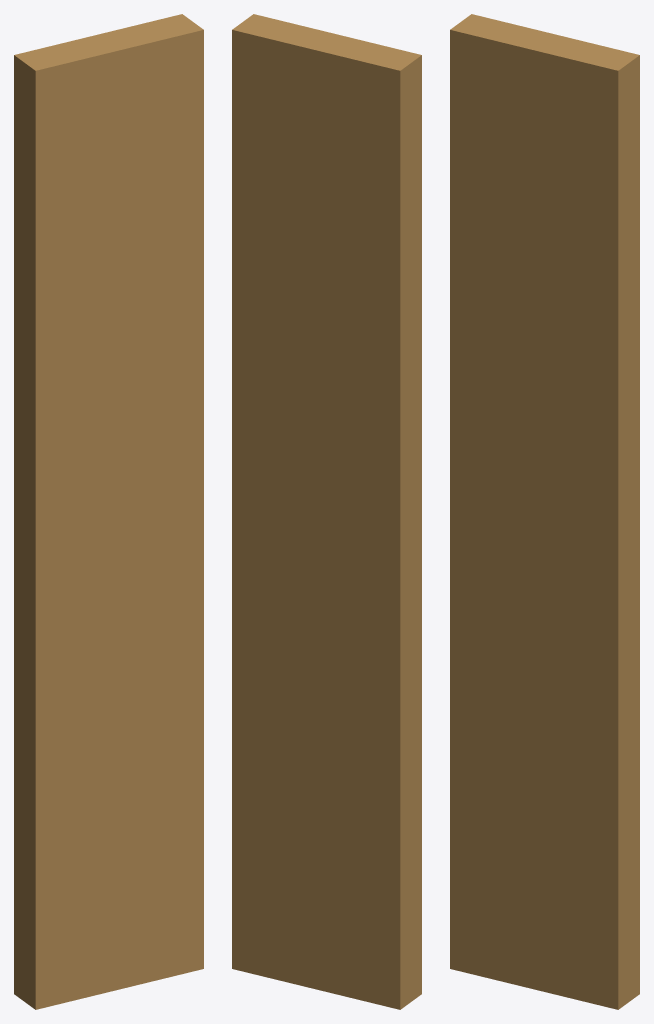
3 renders of one model, left to right at view 1: azimuth 30°, elevation 25°; view 2: azimuth 150°, elevation 25°; view 3: azimuth 330°, elevation 25°, orthographic.
Parts seen in each view (by area): view 1: shape; view 2: shape; view 3: shape.
Boxes of the visible parts, x1,y1,x2,y2 form: shape: [14, 14, 203, 1009]; shape: [232, 14, 421, 1009]; shape: [450, 14, 639, 1009].
Size of the model in its own units: 0.45 by 2.4 by 0.1.
